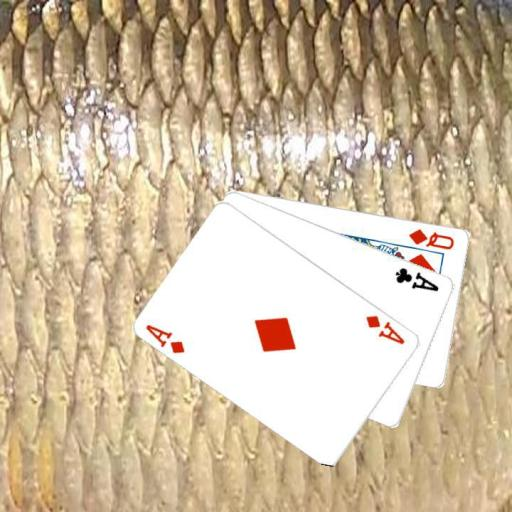AC: (392, 264, 441, 293)
AD: (363, 312, 407, 347), (143, 321, 187, 356)
QD: (406, 225, 456, 251)
